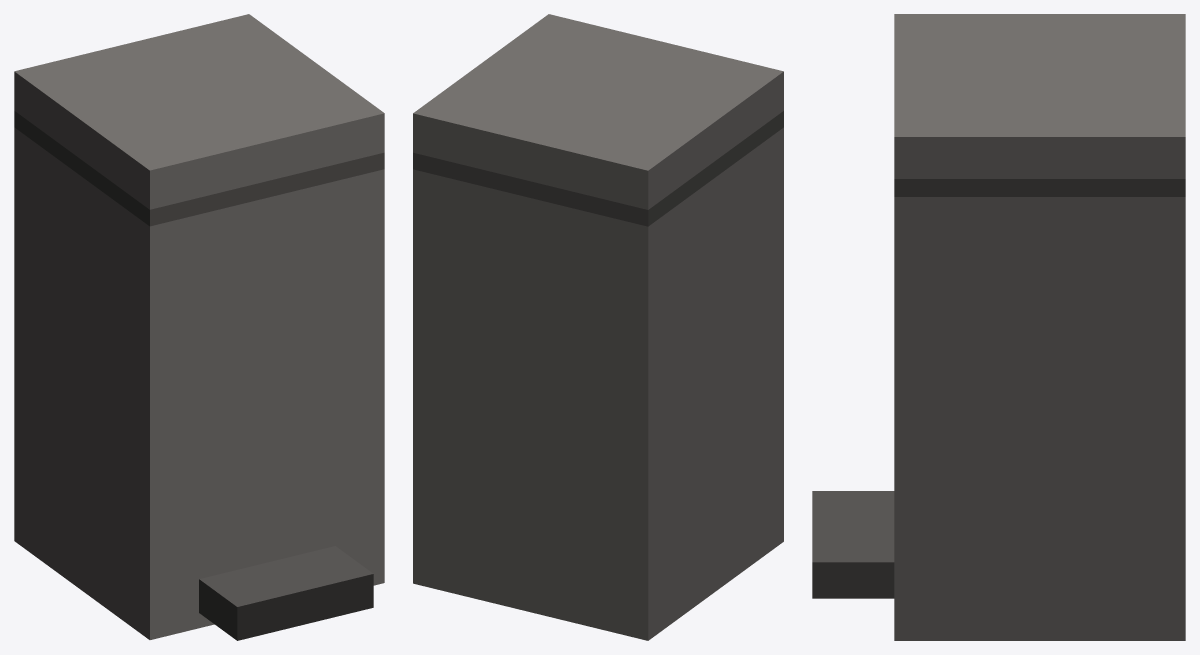
File: AI_Prop_Bin.fbx
3 views of the same model, side by side, from view 1: azimuth 30°, elevation 25°; view 2: azimuth 150°, elevation 25°; view 3: azimuth 270°, elevation 25° (orthographic). The views are drawn at different scales.
Parts seen in each view (by area): view 1: AI_Prop_Bin; view 2: AI_Prop_Bin; view 3: AI_Prop_Bin.
Boxes of the visible parts, box(x1,y1,x2,y2) form: AI_Prop_Bin: box(14, 14, 384, 640); AI_Prop_Bin: box(413, 14, 783, 640); AI_Prop_Bin: box(812, 14, 1185, 640).
Size of the model in its own units: 0.5234 by 1 by 0.6709.
